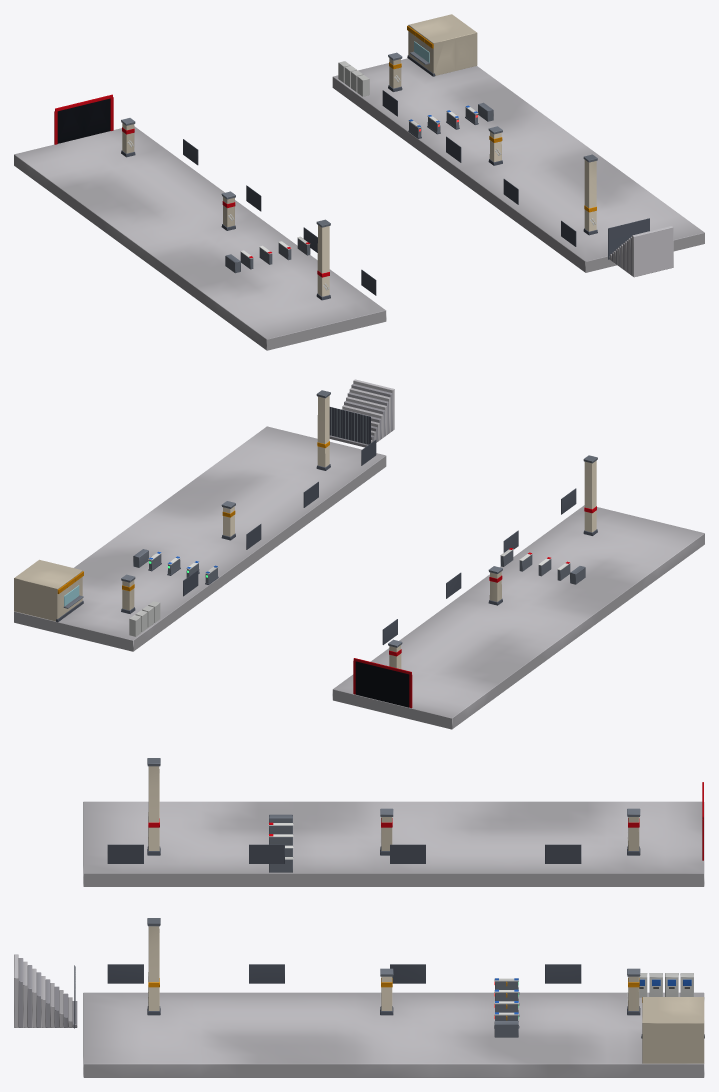
The model's file is side_passages.glb.
The picture shows the model from 3 angles, top to bottom: view 1: azimuth 30°, elevation 25°; view 2: azimuth 150°, elevation 25°; view 3: azimuth 270°, elevation 25°; orthographic projection. The views are drawn at different scales.
Parts seen in each view (by area): view 1: side_passages; view 2: side_passages; view 3: side_passages.
Part boxes in pixels (left/top/right/bottom): side_passages: left=14, top=14, right=704, bottom=350; side_passages: left=14, top=379, right=704, bottom=729; side_passages: left=14, top=758, right=704, bottom=1077.
Size of the model in its own units: 44 by 8.3 by 48.98.
